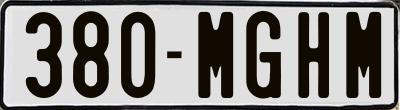0: (121, 12, 161, 103)
3: (23, 10, 65, 96)
8: (70, 10, 106, 99)
G: (243, 11, 283, 103)
H: (295, 9, 328, 98)
M: (197, 12, 237, 98), (343, 10, 380, 99)
